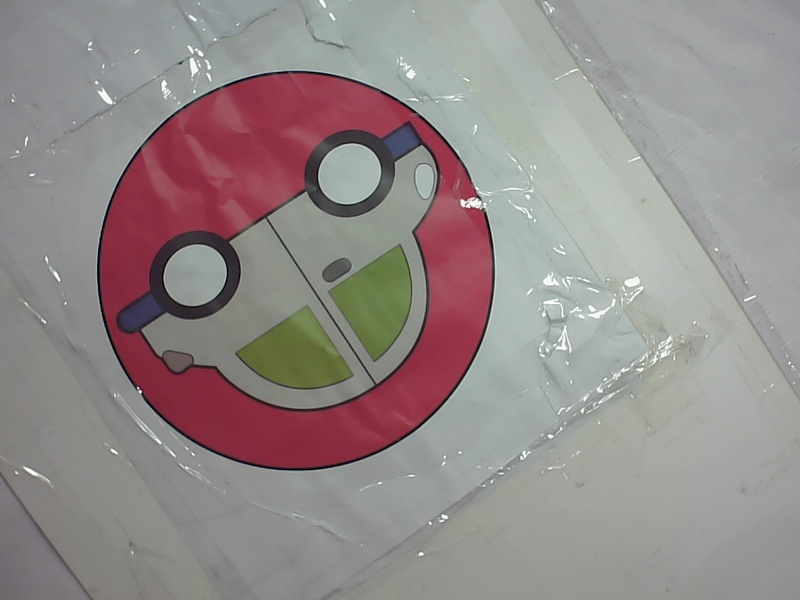areaC: (96, 70, 507, 472)
